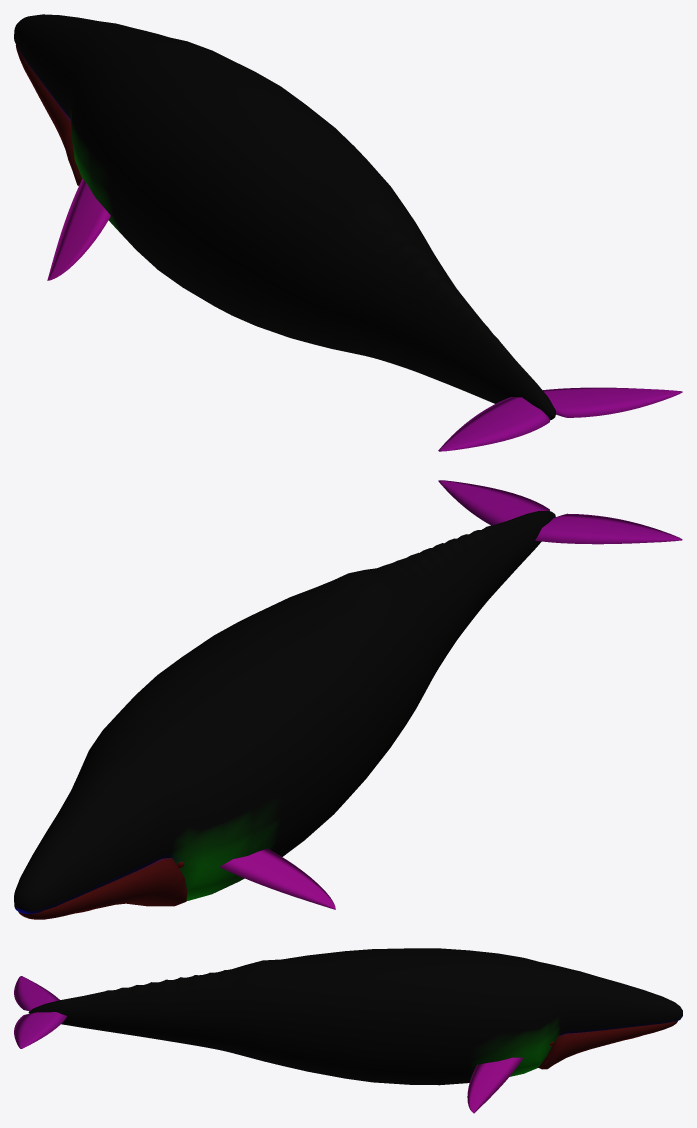
Rendered from gray_whale_game.glb.
3 views of the same model, one above another, from view 1: azimuth 30°, elevation 25°; view 2: azimuth 150°, elevation 25°; view 3: azimuth 270°, elevation 25° (orthographic). The views are drawn at different scales.
Visible parts, largest first — view 1: gray_whale_game; view 2: gray_whale_game; view 3: gray_whale_game.
Boxes of the visible parts, x1=… form: gray_whale_game: x1=14, y1=14, x2=682, y2=451; gray_whale_game: x1=14, y1=480, x2=682, y2=919; gray_whale_game: x1=14, y1=948, x2=682, y2=1113.
Size of the model in its own units: 4 by 2.66 by 13.09.
